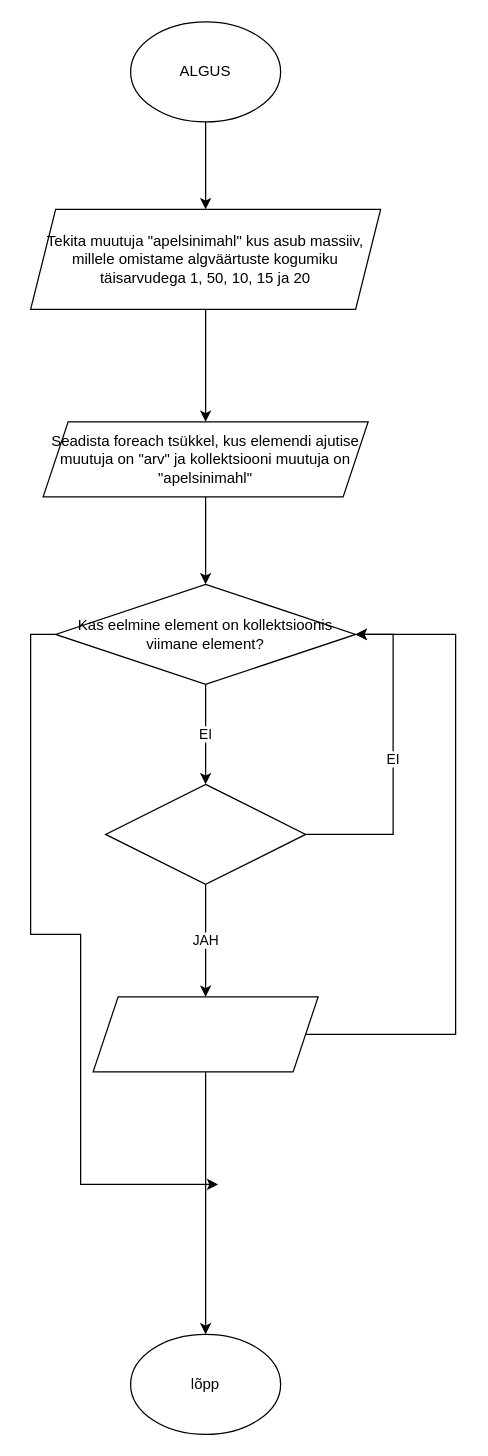
Image size: 488x1456. Some labels were removed from this diagram. The box of each missing label's shape, as (x1, y1, x2, y2) in pixels:
Kas ajutis muutjas "arv" olev väärtus on suurem kui 15?: (104, 783, 306, 884)
Kuva kasutajale muutuja "arv": (92, 996, 318, 1072)
